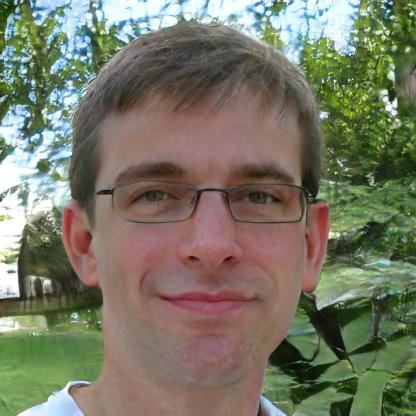glasses: (98, 172, 309, 232)
